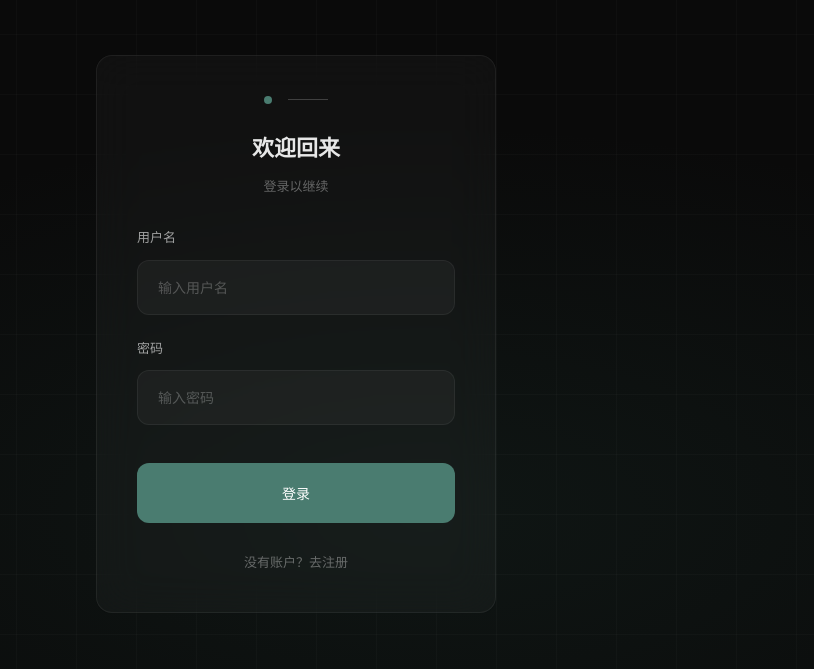
it: LoginView › shows error message on login failure
This screenshot has width=814, height=669.
In the field with placeholder "输入用户名": (296, 287) 137,260 -> 455,315, type "admin"
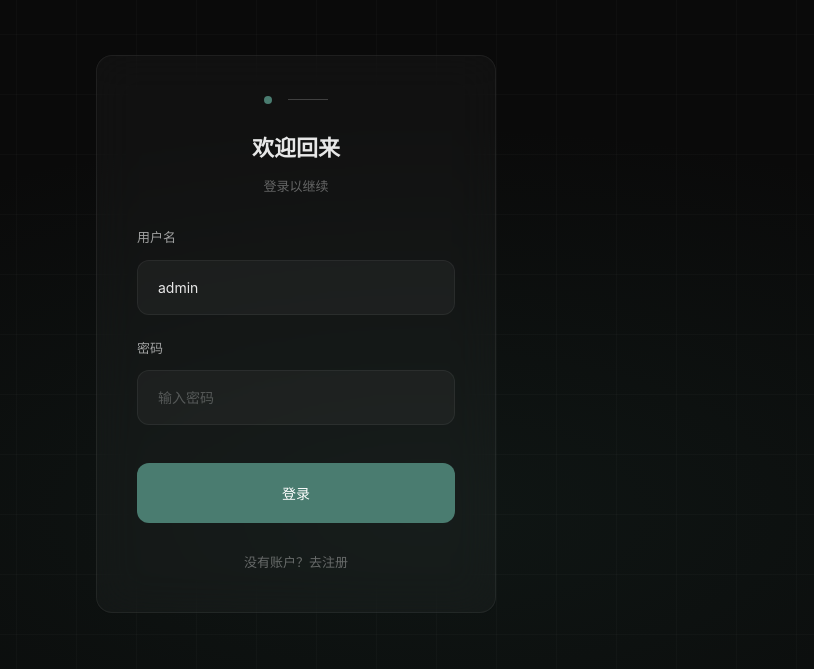
In the password field with placeholder "输入密码": (296, 398) 137,370 -> 455,425, type "wrong"
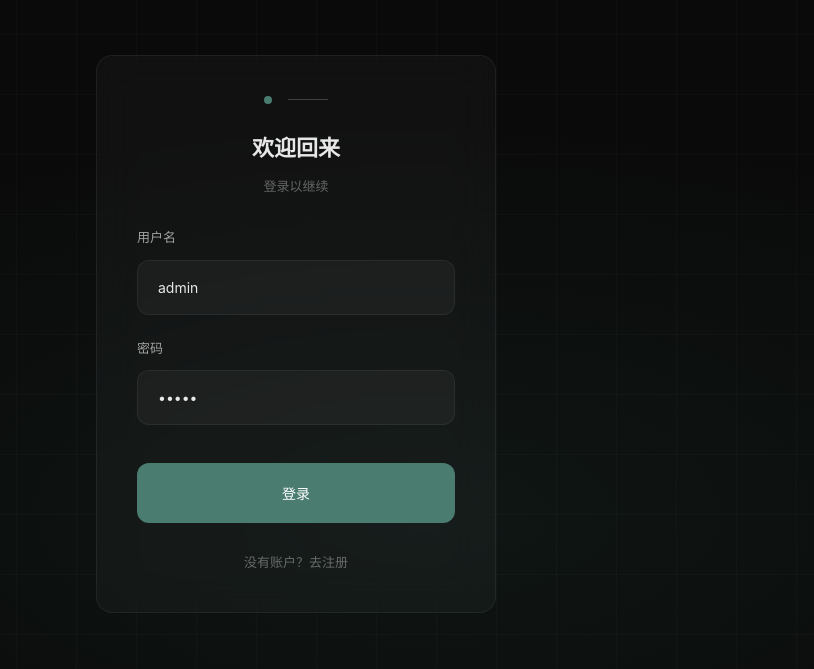
Submit the form, box 137,228 -> 455,523
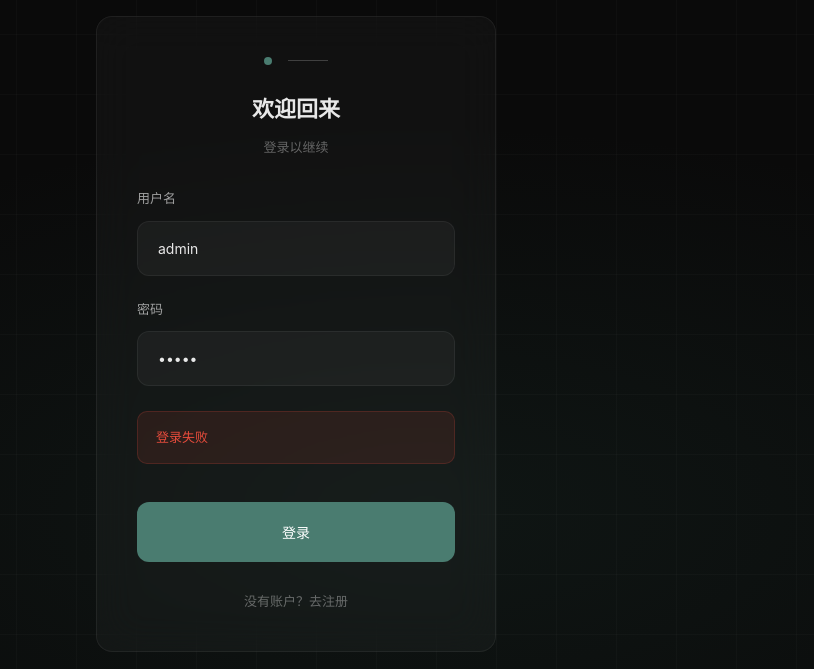
Result: the text "登录失败" is shown at 137,410 -> 455,464
Result: the text with class "form-error" reads "登录失败" at 156,428 -> 208,444
